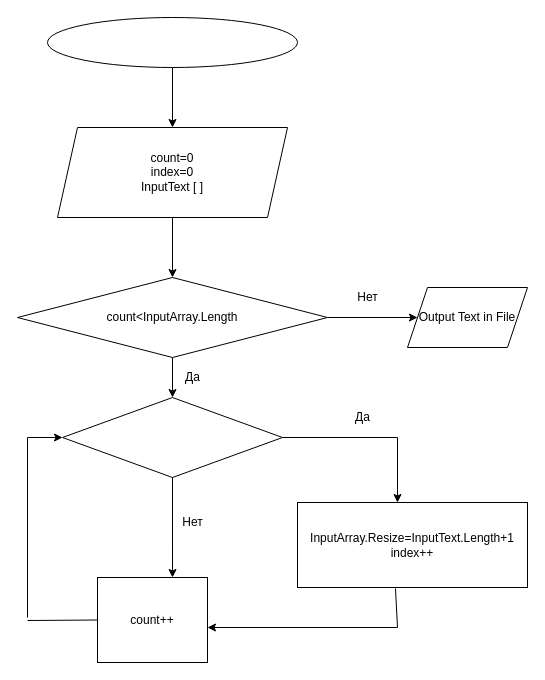
Some shapes in this 545 by 680 pixel diagram are drawn without their labels. The centre of each missing label's shape, as x and y in pixels:
"InputArray[count].Length<=3" belongs at pixel 172 437.
"Начало" belongs at pixel 172 42.
